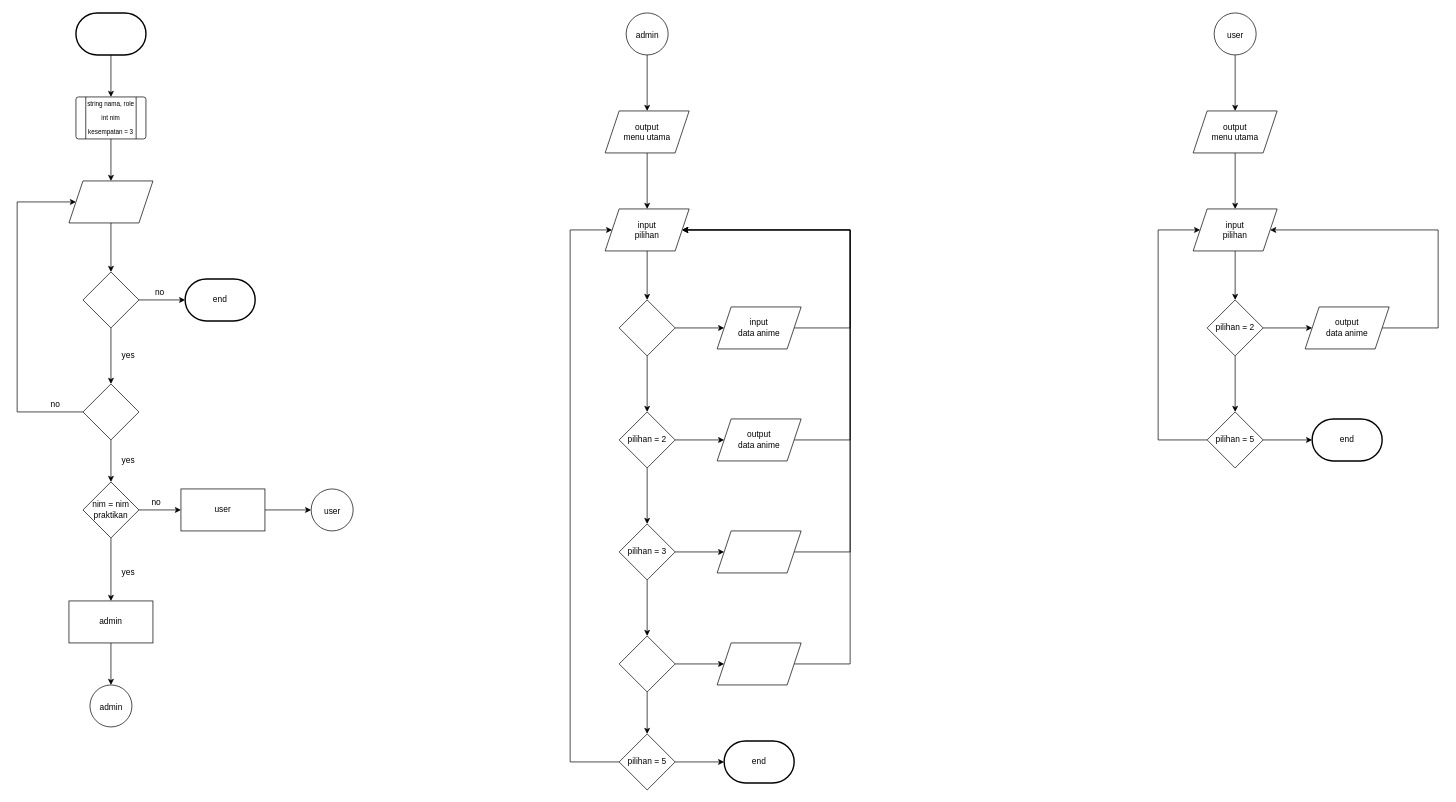
This 1456x802 diagram has some shape labels left out. Each missing label, with the centre of its shape:
"input benar" goes at (x=110, y=411).
"input data anime yang diubah" goes at (x=758, y=551).
"input data yang ingin dihapus" goes at (x=758, y=663).
"input nama, nim" goes at (x=110, y=201).
"kesempatan > 0" goes at (x=110, y=299).
"pilihan = 1" goes at (x=646, y=327).
"pilihan = 4" goes at (x=646, y=663).
"start" goes at (x=110, y=33).
